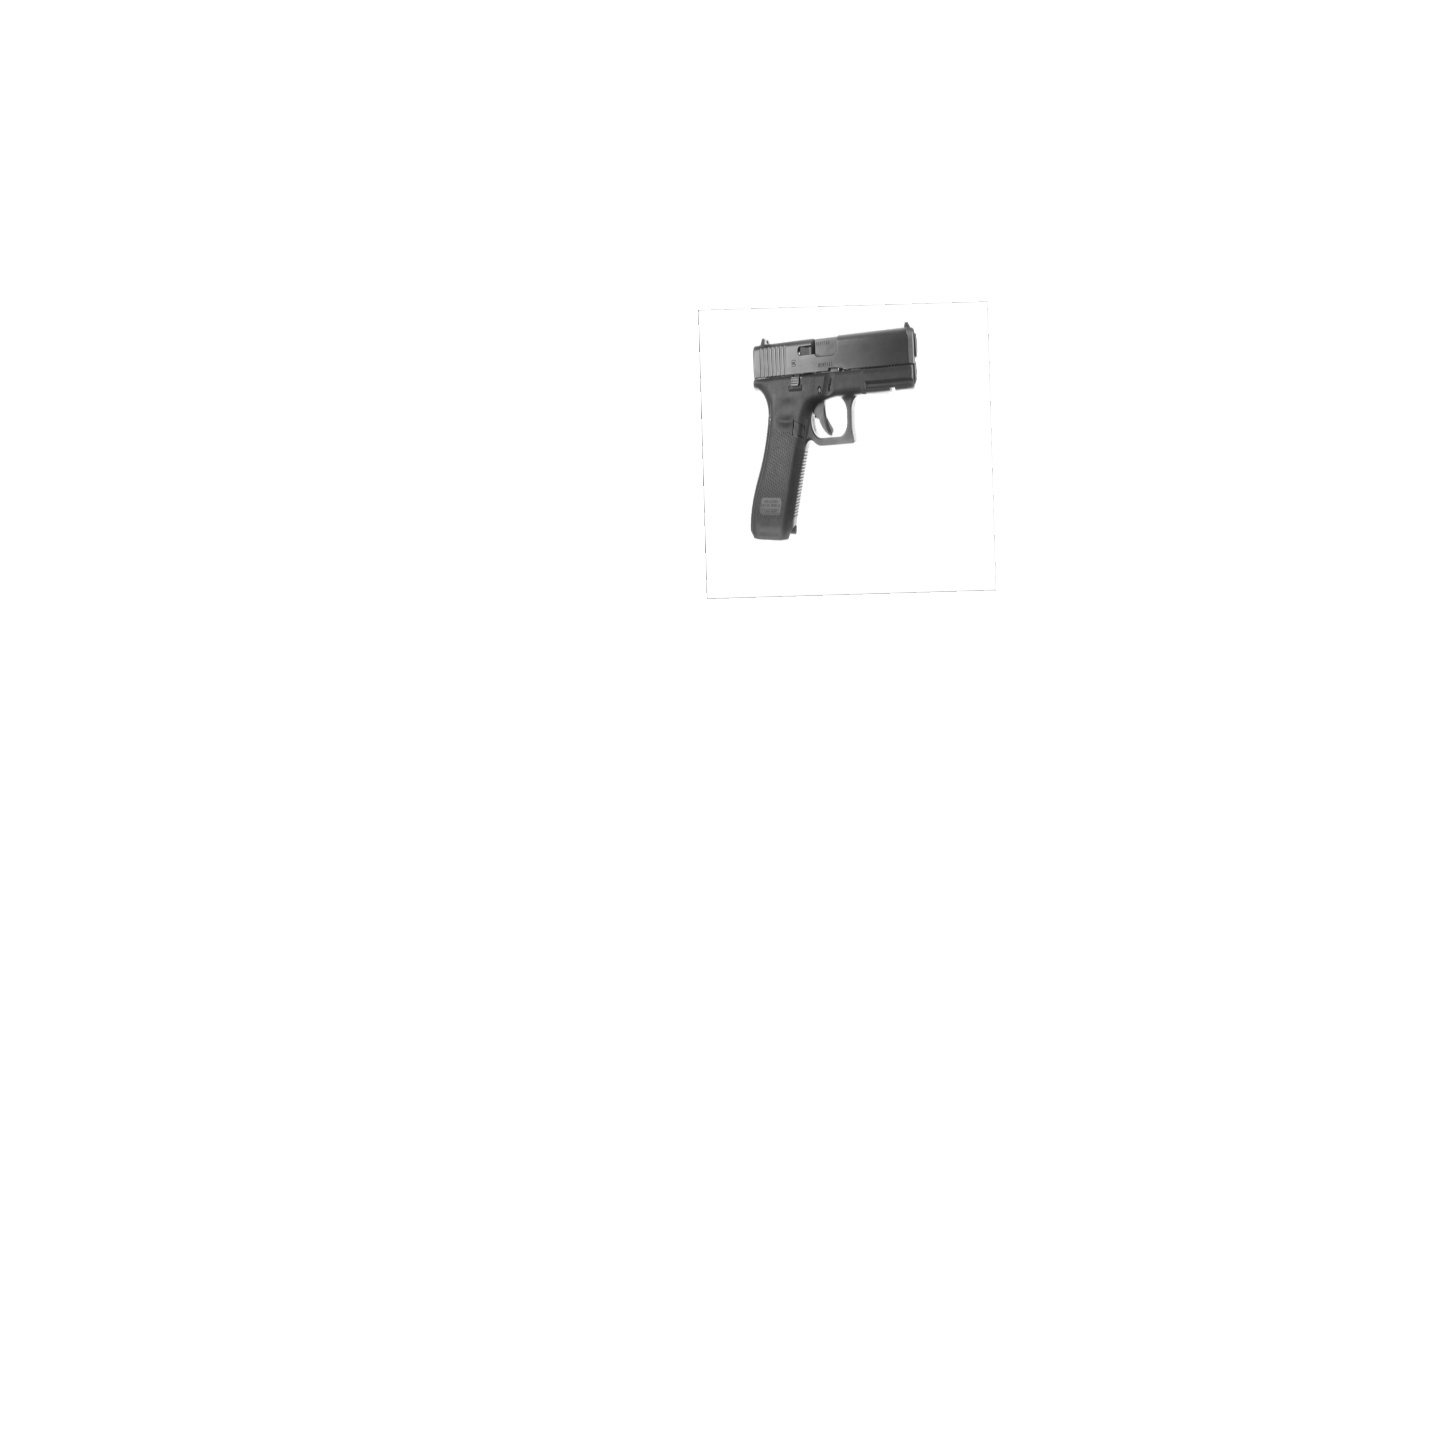gun: (749, 321, 920, 543)
